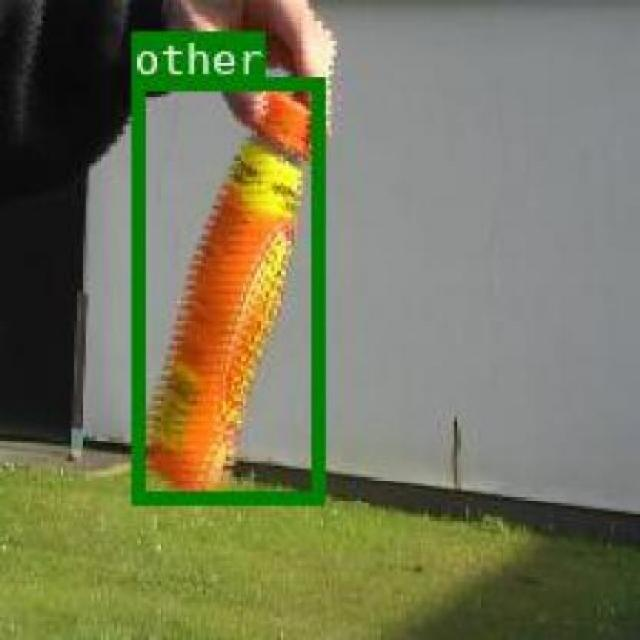other: (130, 75, 321, 503)
